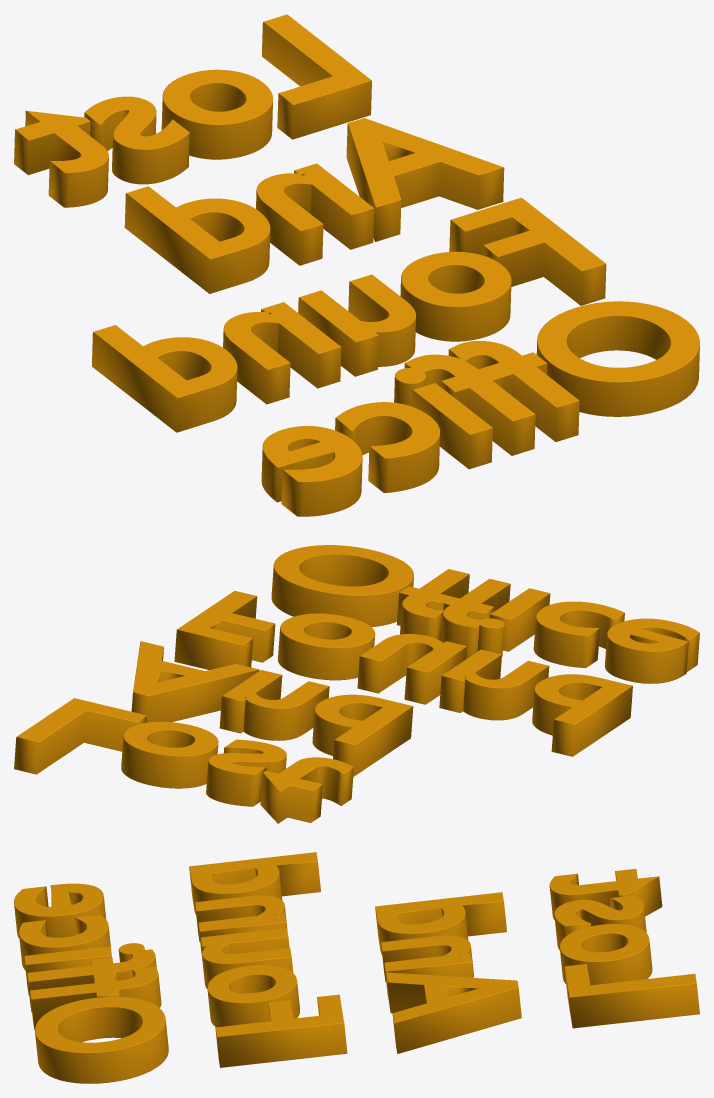
Rendered from LAFO_Text.fbx.
The picture shows the model from 3 angles, top to bottom: view 1: azimuth 30°, elevation 25°; view 2: azimuth 150°, elevation 25°; view 3: azimuth 270°, elevation 25°; orthographic projection. The views are drawn at different scales.
Parts seen in each view (by area): view 1: Текст; view 2: Текст; view 3: Текст.
Boxes of the visible parts, box(x1,y1,x2,y2) form: Текст: box(14, 14, 699, 516); Текст: box(14, 545, 699, 823); Текст: box(14, 852, 699, 1083).
Bounding box in the file's own units: 877 × 206 × 1326.
